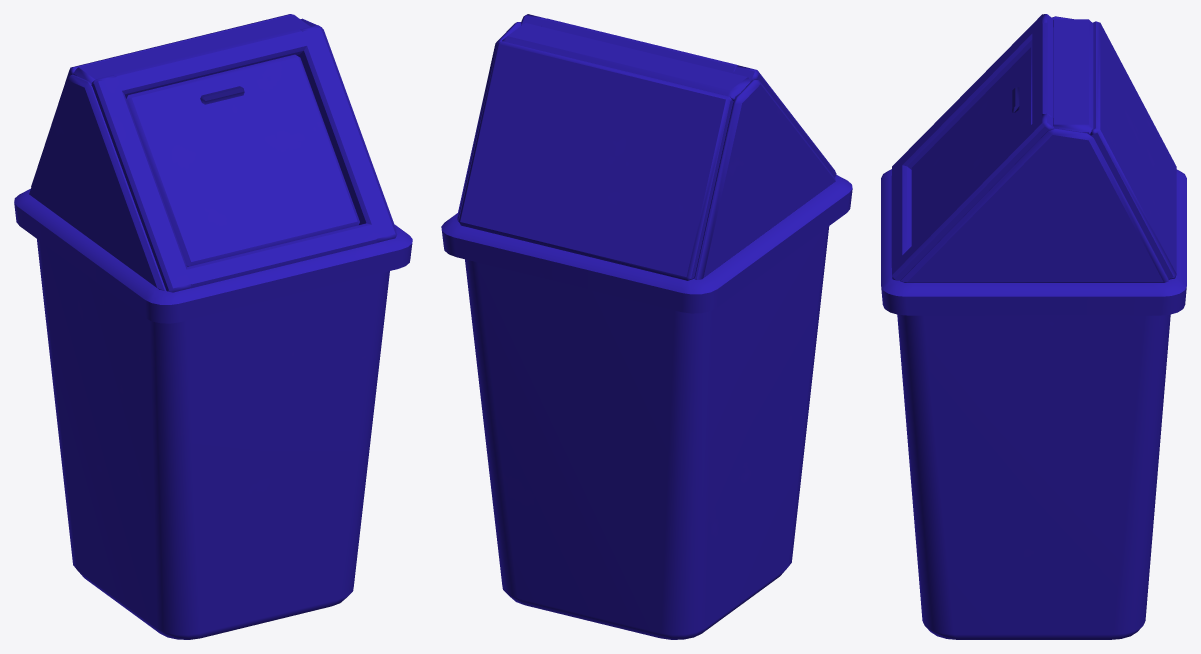
The model's file is cesto_lixo_azul_realista.glb.
The picture shows the model from 3 angles, left to right: view 1: azimuth 30°, elevation 25°; view 2: azimuth 150°, elevation 25°; view 3: azimuth 270°, elevation 25°; orthographic projection. The views are drawn at different scales.
Visible parts, largest first — view 1: Lixeira_Vermelha_Papel, Portinhola_Pivo_X; view 2: Lixeira_Vermelha_Papel; view 3: Lixeira_Vermelha_Papel, Portinhola_Pivo_X.
Part boxes in pixels (bbox=[...]): Lixeira_Vermelha_Papel: bbox=[14, 14, 412, 639]; Portinhola_Pivo_X: bbox=[126, 54, 359, 266]; Lixeira_Vermelha_Papel: bbox=[441, 14, 852, 639]; Lixeira_Vermelha_Papel: bbox=[881, 14, 1186, 639]; Portinhola_Pivo_X: bbox=[911, 47, 1032, 245].
Bounding box in the file's own units: 0.27 × 0.5141 × 0.27.
Materials: 1 (1 with a texture image).
